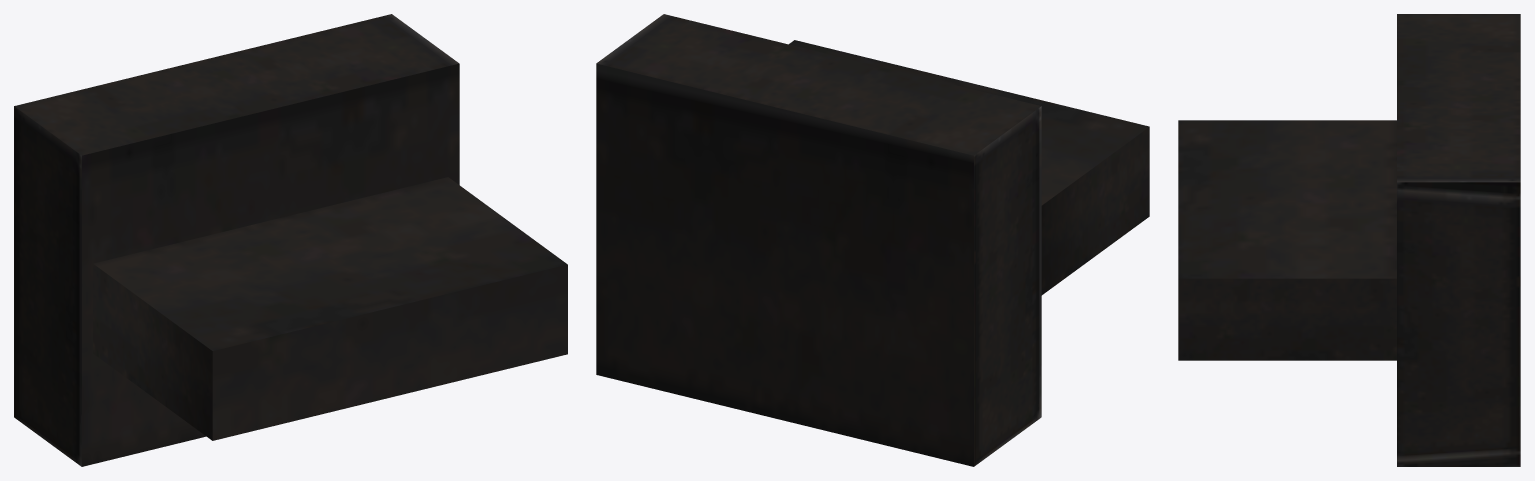
File: t6_attach_optic_dualband_mount_world_LOD2.obj
The picture shows the model from 3 angles, left to right: view 1: azimuth 30°, elevation 25°; view 2: azimuth 150°, elevation 25°; view 3: azimuth 270°, elevation 25°; orthographic projection. The views are drawn at different scales.
Visible parts, largest first — view 1: mtl_t6_attach_optic_dualband; view 2: mtl_t6_attach_optic_dualband; view 3: mtl_t6_attach_optic_dualband.
Part boxes in pixels (x1,y1,x2,y2): mtl_t6_attach_optic_dualband: [14, 14, 567, 466]; mtl_t6_attach_optic_dualband: [596, 14, 1149, 466]; mtl_t6_attach_optic_dualband: [1178, 14, 1520, 466].
Size of the model in its own units: 3.74 by 2.95 by 3.21.
